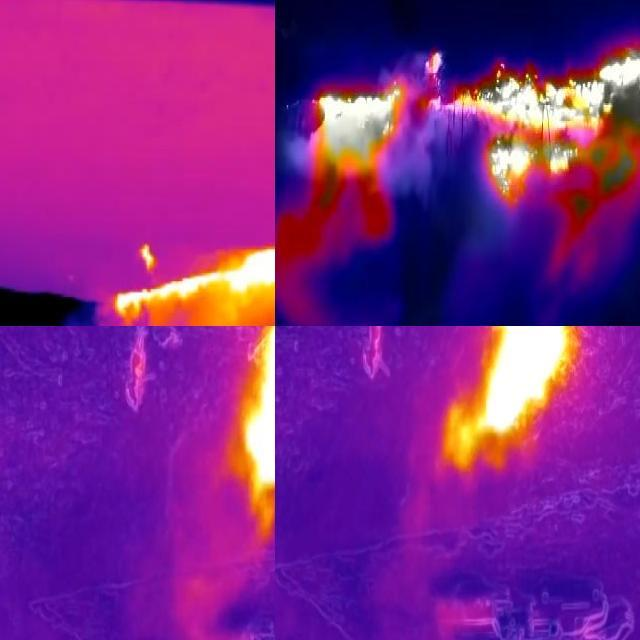fire: (423, 45, 640, 211), (448, 327, 572, 470), (111, 237, 276, 327), (309, 77, 405, 194), (240, 327, 276, 509)
